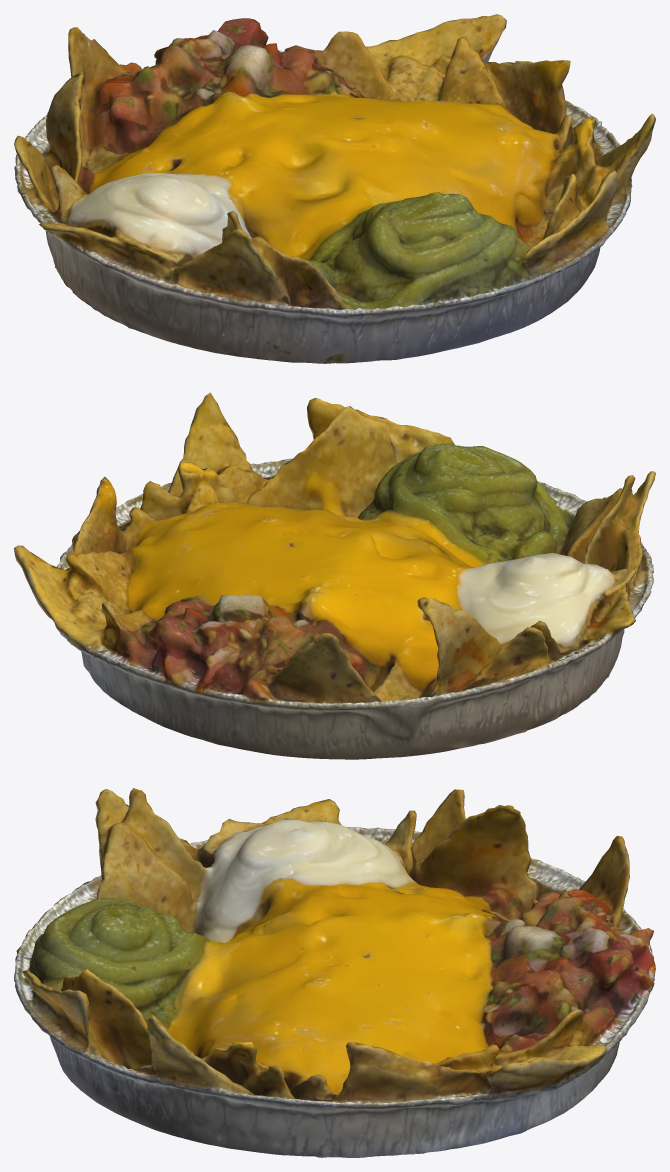
The model's file is Nachos(Sides_Category)_1757460015026.glb.
3 views of the same model, one above another, from view 1: azimuth 30°, elevation 25°; view 2: azimuth 150°, elevation 25°; view 3: azimuth 270°, elevation 25° (orthographic). The views are drawn at different scales.
Parts seen in each view (by area): view 1: nachos ( beef, chicken , vege).001; view 2: nachos ( beef, chicken , vege).001; view 3: nachos ( beef, chicken , vege).001.
Boxes of the visible parts, x1,y1,x2,y2 form: nachos ( beef, chicken , vege).001: (14, 14, 655, 363); nachos ( beef, chicken , vege).001: (14, 392, 655, 759); nachos ( beef, chicken , vege).001: (14, 788, 655, 1157).
Bounding box in the file's own units: 0.2023 × 0.0533 × 0.1985.
1 material, 1 textured.
